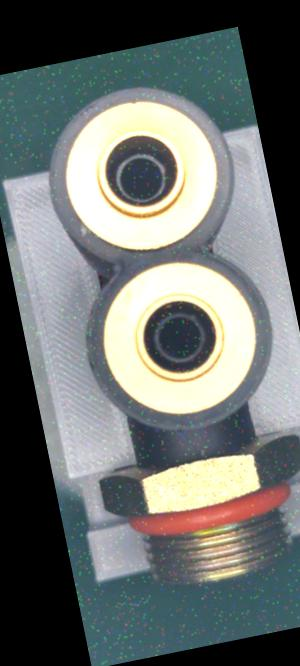white mark: (195, 442, 212, 457)
